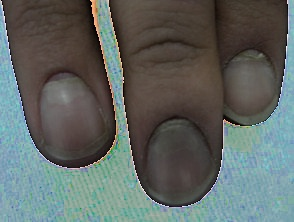SJS-TEN: (127, 102, 235, 212), (212, 25, 294, 93), (32, 69, 102, 119)
